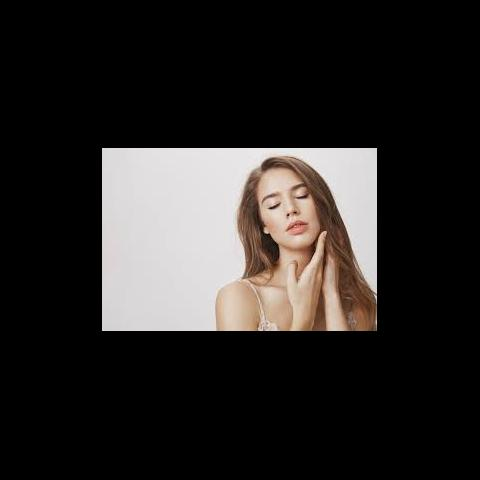closed: (253, 182, 322, 214)
